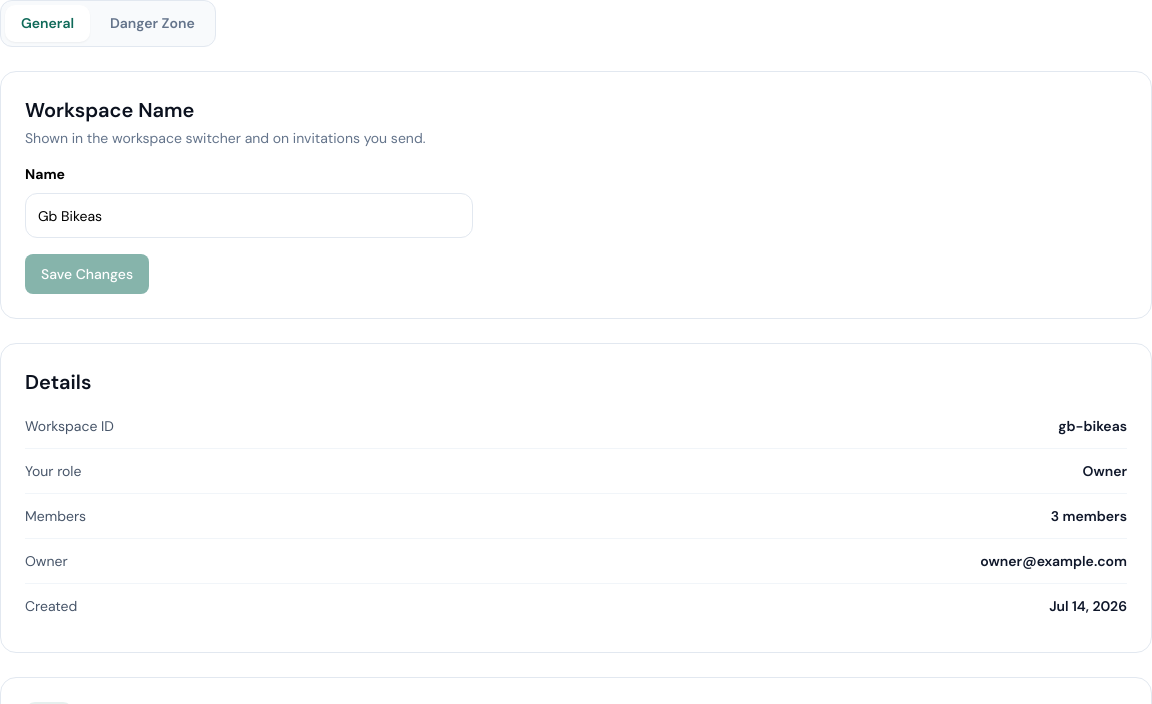
Test case: danger zone › offers delete to an owner but not leave
The width and height of the screenshot is (1152, 704).
Click the tab "Danger Zone".
click(152, 24)  # box [94,5,211,42]
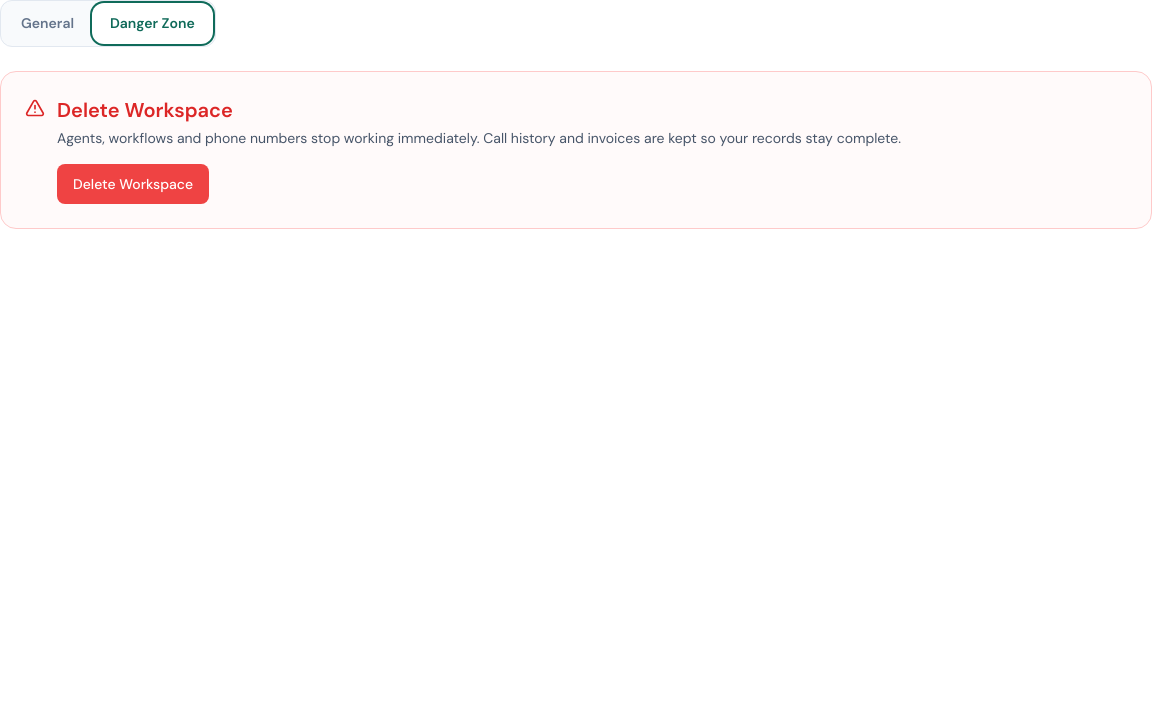
Result: the button "Delete Workspace" is shown at [57,164,209,204]
